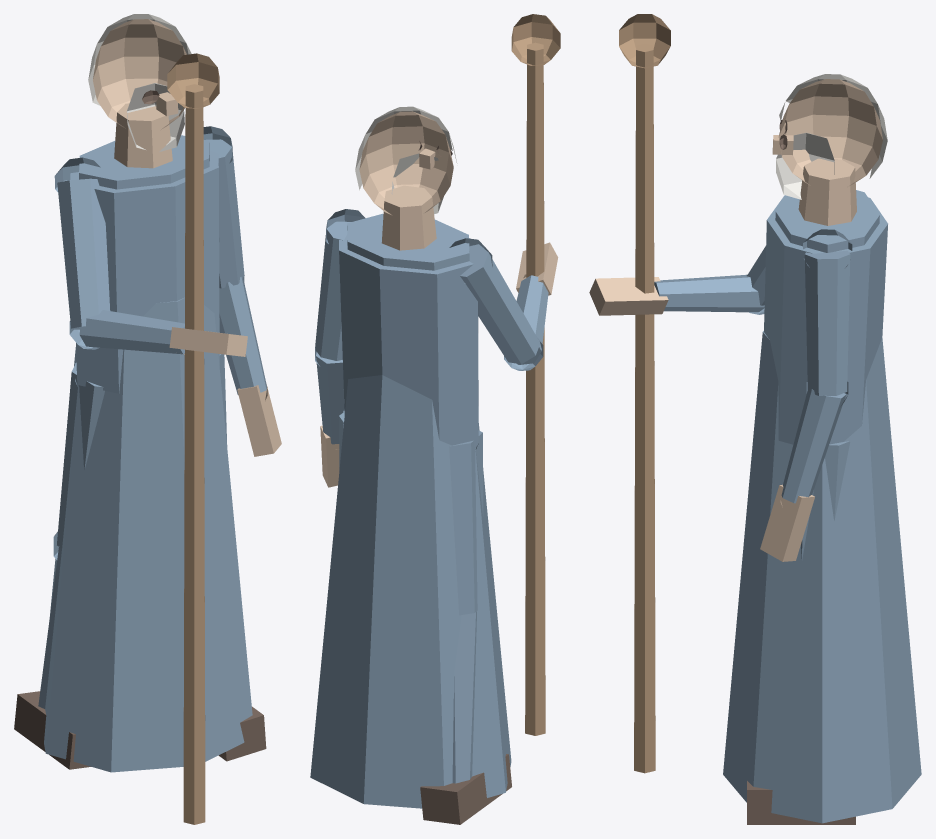
The model's file is low-poly-character-figures-mage-with-staff-678a0b9e__36375.glb.
The picture shows the model from 3 angles, left to right: view 1: azimuth 30°, elevation 25°; view 2: azimuth 150°, elevation 25°; view 3: azimuth 270°, elevation 25°; orthographic projection. The views are drawn at different scales.
Visible parts, largest first — view 1: mage-with-staff; view 2: mage-with-staff; view 3: mage-with-staff.
Boxes of the visible parts, left/top/right/bottom form: mage-with-staff: left=14, top=14, right=281, bottom=824; mage-with-staff: left=310, top=14, right=560, bottom=824; mage-with-staff: left=589, top=14, right=921, bottom=824.
Size of the model in its own units: 0.5315 by 1.77 by 0.7081.
